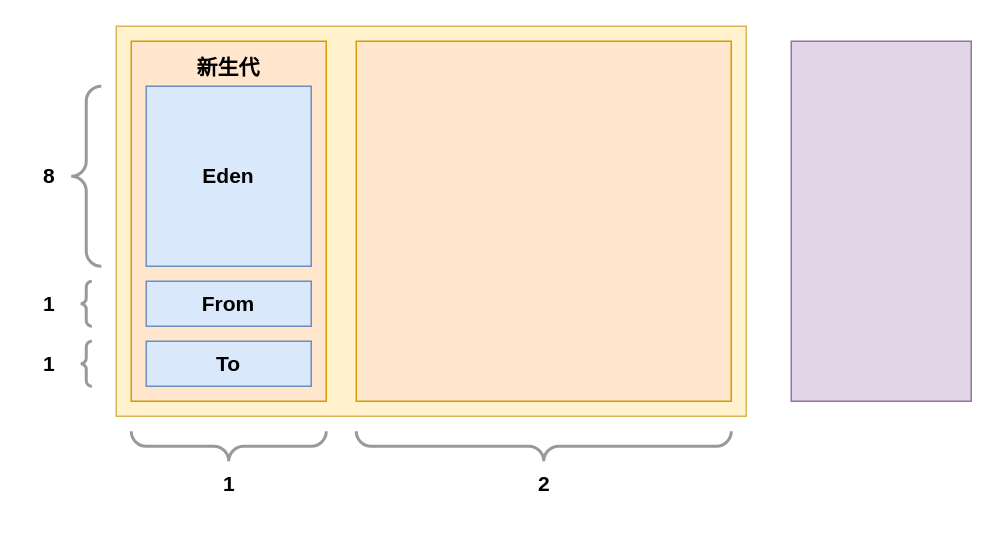
The diagram is 998 pixels wide and 533 high, and some of its shapes have lost their labels. Each missing label, with the centre of its shape:
永久代: (x=880, y=220)
老年代: (x=543, y=220)
